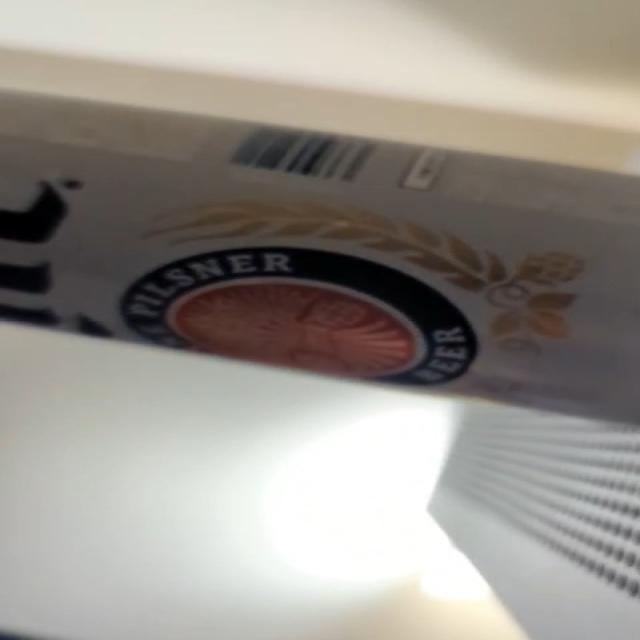metal: (0, 92, 638, 421)
